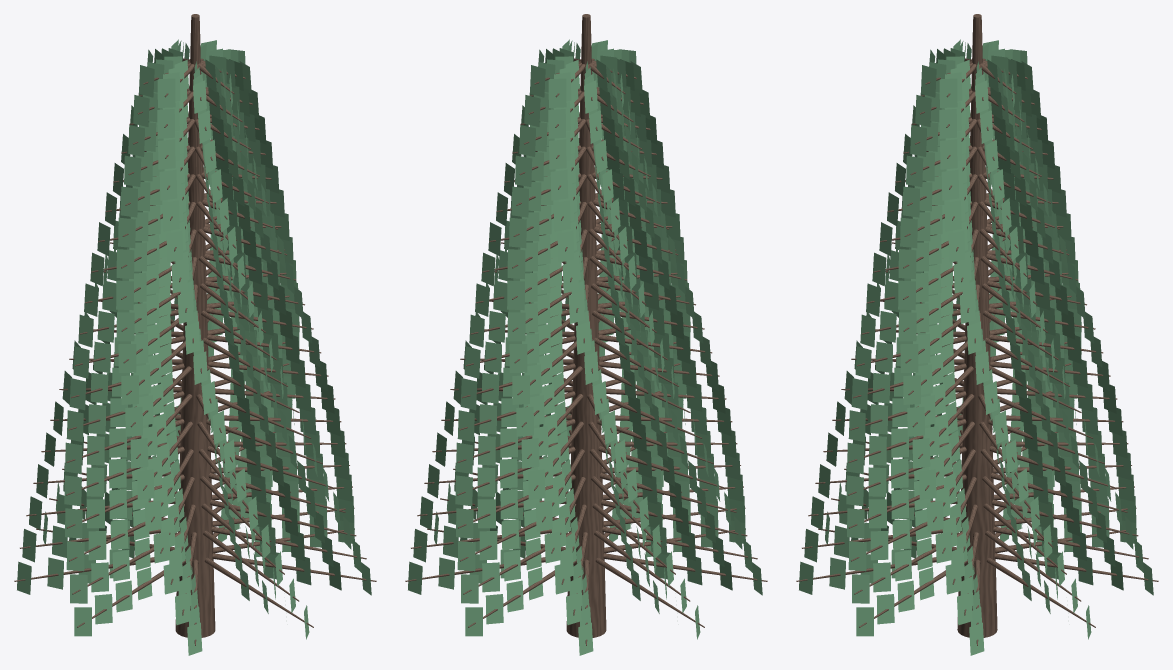
The model's file is tree_fir01.glb.
3 renders of one model, left to right at view 1: azimuth 30°, elevation 25°; view 2: azimuth 150°, elevation 25°; view 3: azimuth 270°, elevation 25°, orthographic.
Visible parts, largest first — view 1: needles, branches, trunk; view 2: needles, branches, trunk; view 3: needles, branches, trunk.
Boxes of the visible parts, <box> form: needles: <box>17,39,371,655</box>; branches: <box>14,58,376,645</box>; trunk: <box>175,14,215,637</box>; needles: <box>408,39,762,655</box>; branches: <box>405,58,767,645</box>; trunk: <box>566,14,606,637</box>; needles: <box>799,39,1153,655</box>; branches: <box>796,58,1158,645</box>; trunk: <box>957,14,997,637</box>.
Size of the model in its own units: 4.63 by 8.8 by 4.7.
2 materials, 2 textured.
